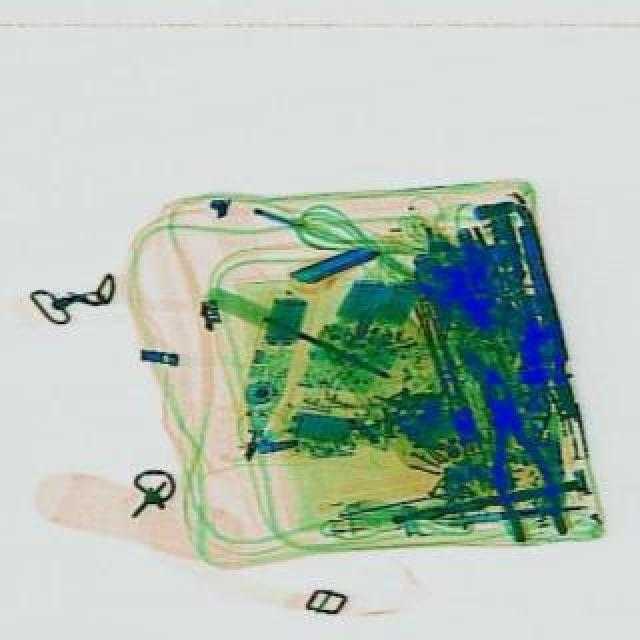wrench: (460, 362, 568, 546)
